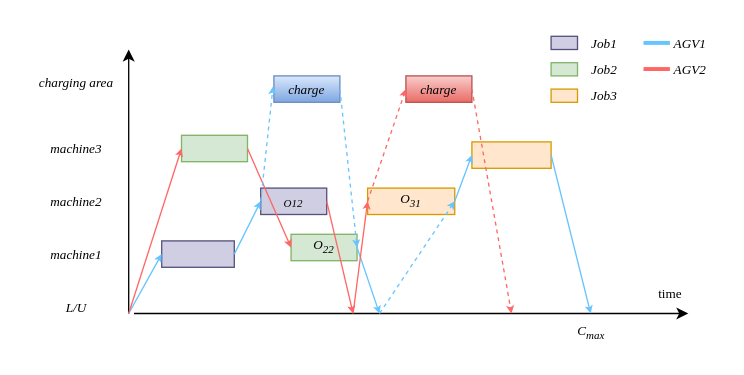
Image size: 744x375. Some labels were removed from this diagram. The centre of each missing label's shape, as x and y in pixels:
"O 11" goes at [197,253].
"O 21" goes at [214,148].
"O 32" goes at [511,154].
